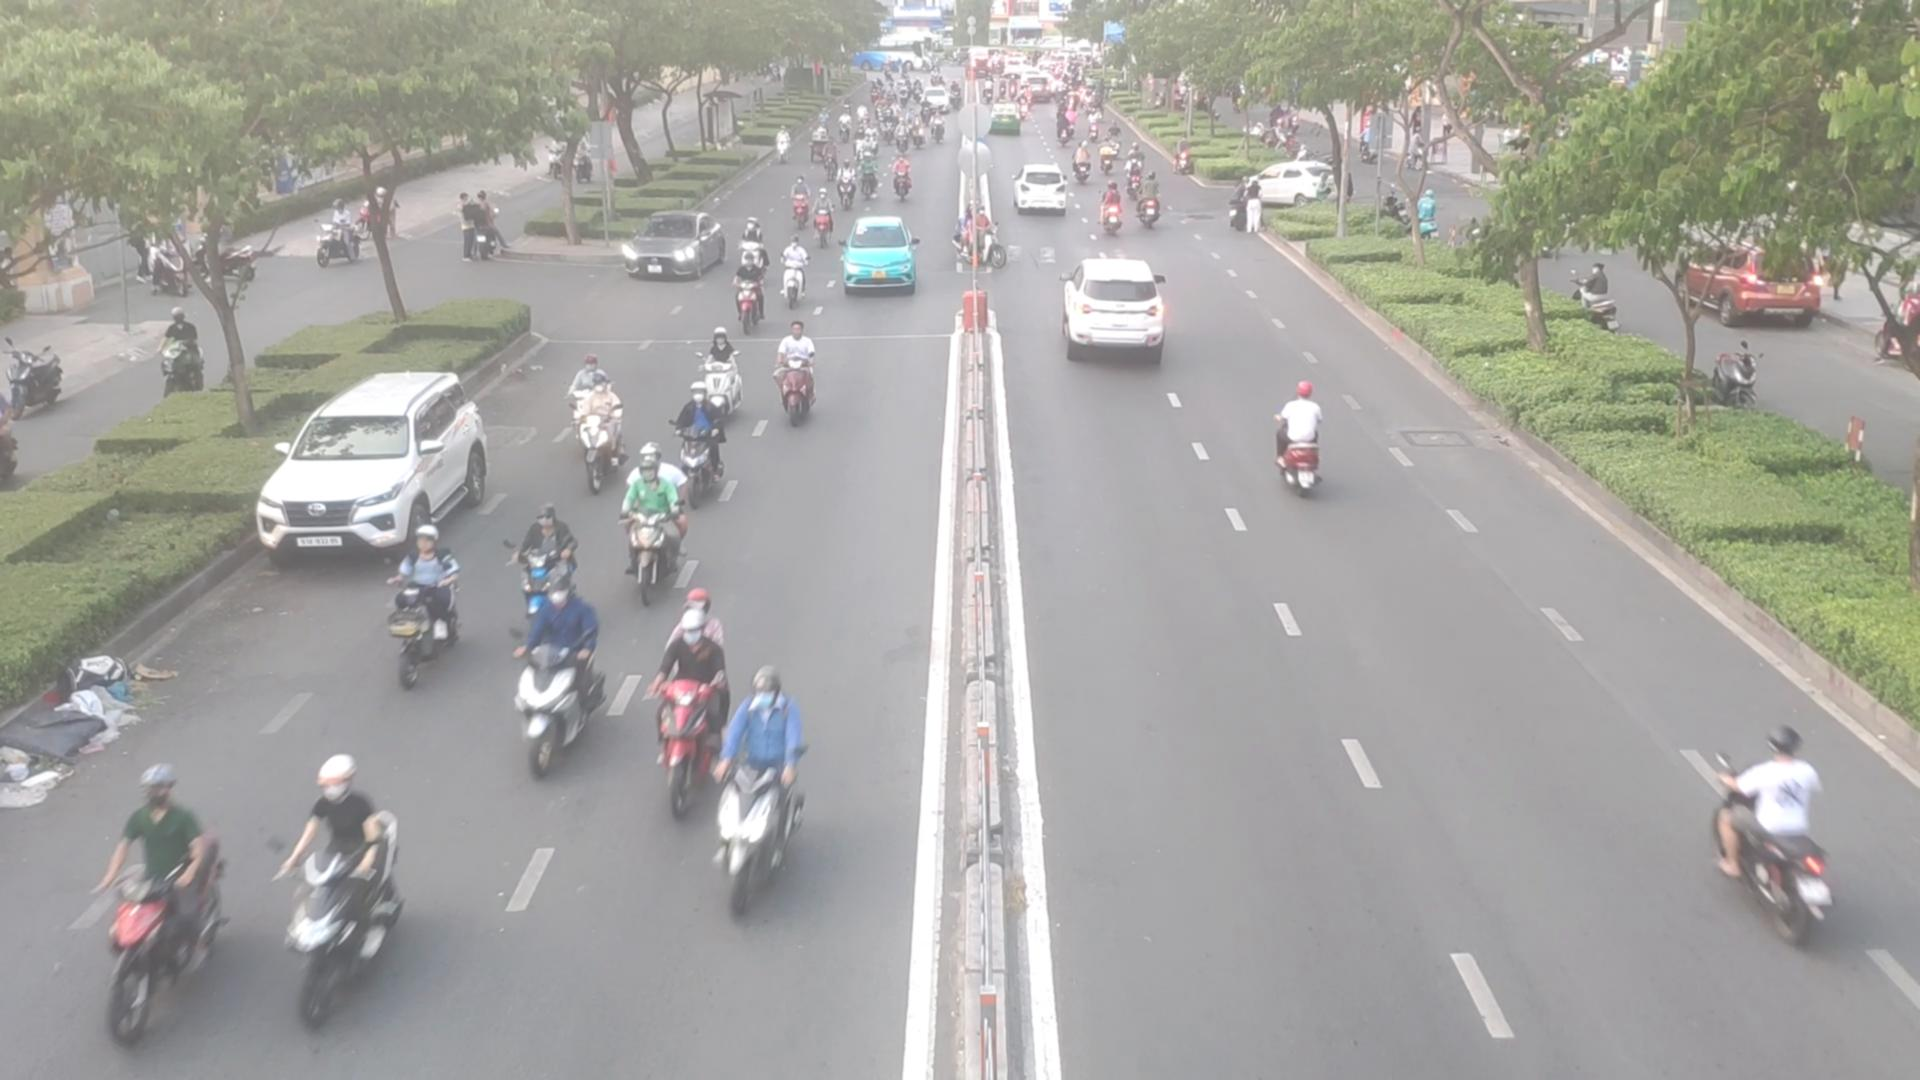car: (258, 373, 495, 567), (1676, 241, 1834, 328), (1065, 260, 1174, 359), (621, 215, 729, 284), (839, 220, 915, 295), (1246, 160, 1338, 212), (1017, 165, 1073, 214)
motorbike: (251, 753, 411, 1036), (1698, 717, 1837, 934), (102, 837, 233, 1044), (698, 671, 798, 910), (640, 603, 752, 812), (392, 521, 462, 688), (521, 582, 575, 793), (612, 458, 692, 599), (1253, 367, 1335, 505), (493, 506, 572, 608), (769, 334, 825, 425), (673, 380, 713, 491), (582, 367, 622, 471), (686, 335, 741, 411), (562, 353, 605, 448), (773, 237, 822, 301), (728, 256, 774, 316), (963, 218, 1005, 272), (737, 223, 773, 276), (1098, 182, 1127, 229), (814, 196, 839, 243), (1137, 173, 1156, 229), (887, 160, 916, 198), (857, 157, 880, 206), (791, 178, 808, 233), (837, 164, 858, 208), (1120, 164, 1146, 196), (818, 142, 839, 181)
